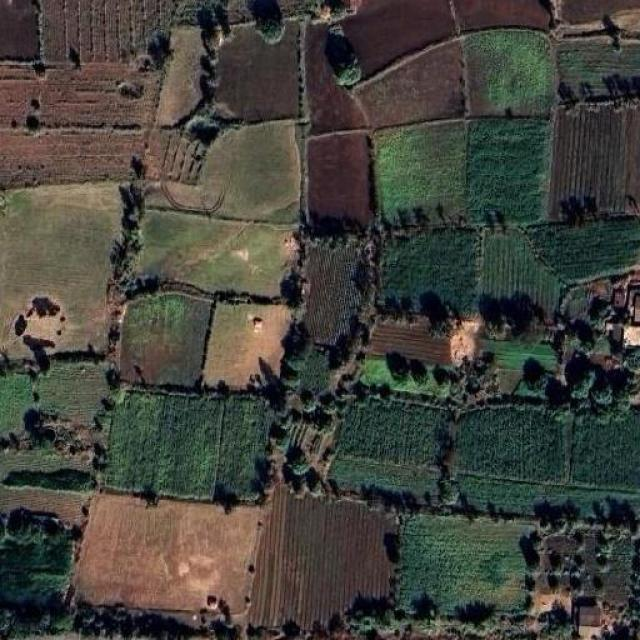land-Sx1C: (75, 495, 264, 623), (0, 184, 120, 372), (245, 485, 391, 628), (144, 100, 301, 222), (105, 391, 274, 500), (458, 406, 640, 488), (138, 210, 291, 297), (401, 514, 526, 610), (548, 101, 640, 221), (0, 62, 159, 129), (530, 534, 638, 628), (459, 476, 640, 529), (354, 40, 464, 127), (0, 508, 74, 634), (374, 121, 465, 220), (376, 229, 477, 318), (480, 230, 568, 328), (121, 292, 211, 387), (0, 129, 146, 187), (344, 0, 455, 76), (39, 0, 175, 62), (216, 21, 300, 121), (466, 121, 548, 222), (465, 30, 554, 116), (524, 217, 638, 284), (202, 304, 291, 389), (0, 448, 91, 525), (339, 400, 447, 464), (305, 24, 368, 133), (301, 241, 362, 349), (310, 131, 374, 226), (556, 35, 640, 105), (325, 458, 451, 504), (362, 315, 458, 369), (159, 29, 206, 123), (39, 361, 109, 423), (272, 417, 338, 482), (355, 362, 450, 400), (468, 338, 562, 374), (454, 0, 550, 31), (288, 351, 341, 400), (0, 0, 39, 59), (0, 375, 31, 433)
